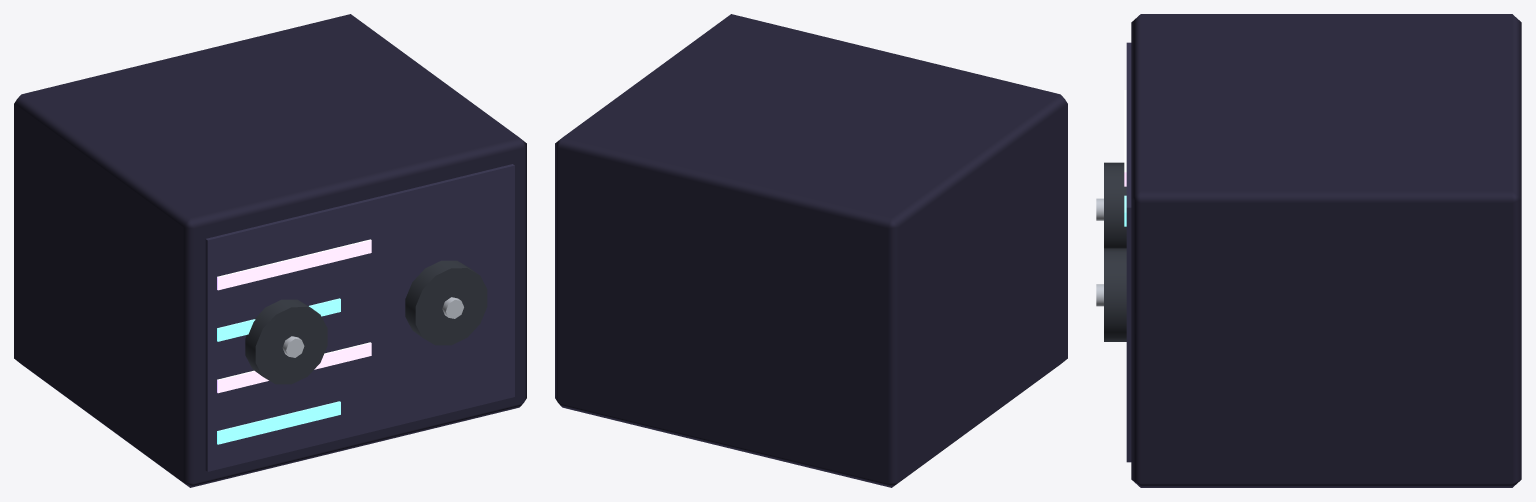
Rendered from station_buffer_ausstattung_1_3.glb.
The picture shows the model from 3 angles, left to right: view 1: azimuth 30°, elevation 25°; view 2: azimuth 150°, elevation 25°; view 3: azimuth 270°, elevation 25°; orthographic projection. The views are drawn at different scales.
Visible parts, largest first — view 1: station_buffer_ausstattung_1_3; view 2: station_buffer_ausstattung_1_3; view 3: station_buffer_ausstattung_1_3.
Boxes of the visible parts, <box> form: station_buffer_ausstattung_1_3: <box>14,14,526,487</box>; station_buffer_ausstattung_1_3: <box>555,14,1067,487</box>; station_buffer_ausstattung_1_3: <box>1096,14,1521,487</box>.
Size of the model in its own units: 0.56 by 0.42 by 0.545.
